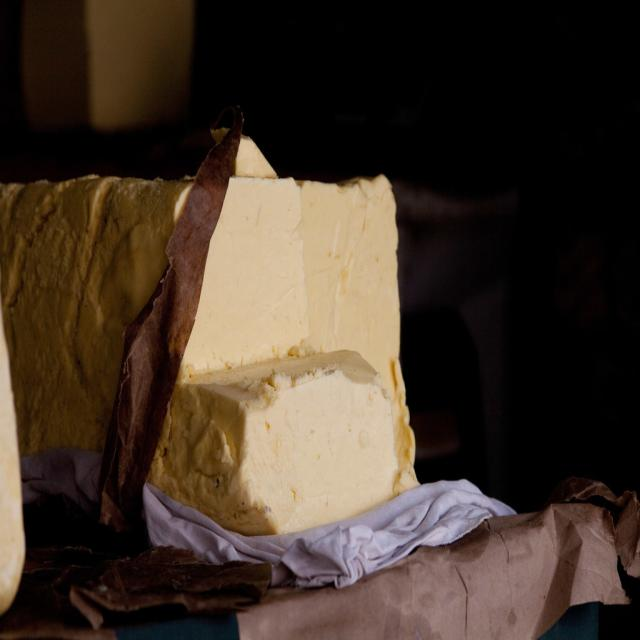Cheese: (0, 119, 420, 534)
